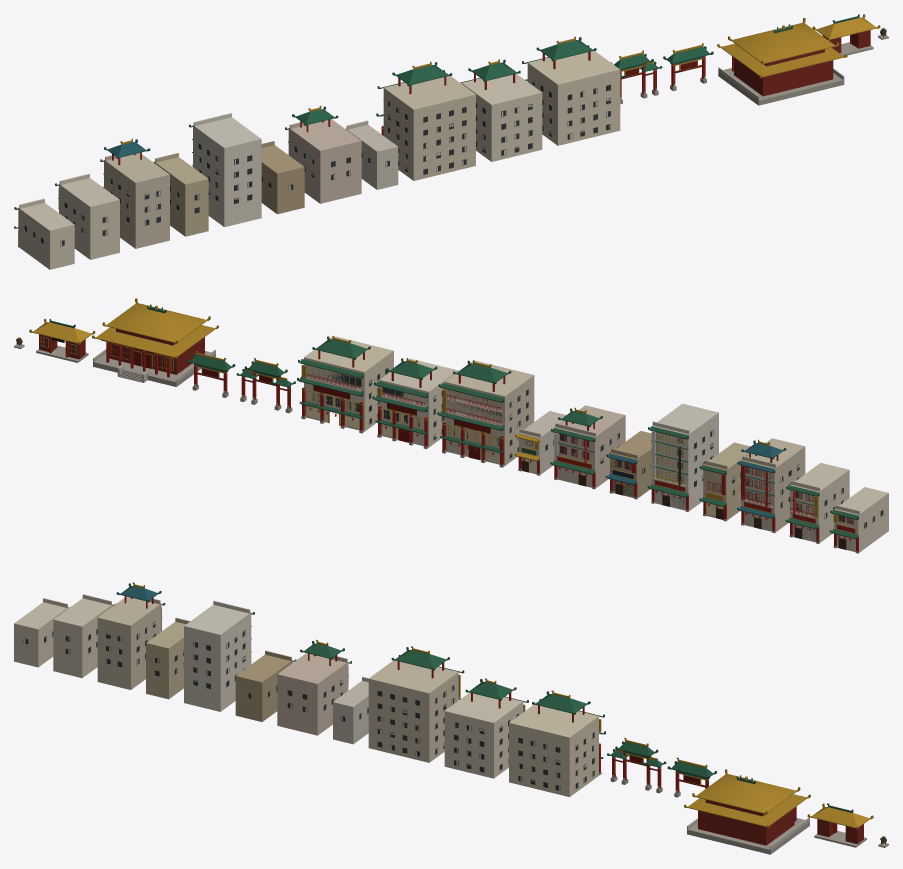
File: tosen.glb
The picture shows the model from 3 angles, top to bottom: view 1: azimuth 30°, elevation 25°; view 2: azimuth 150°, elevation 25°; view 3: azimuth 330°, elevation 25°; orthographic projection. The views are drawn at different scales.
Visible parts, largest first — view 1: tosen_rest_a_body, tosen_hanten_body, tosen_byo_body, tosen_shop_e_body, tosen_rest_b_body, tosen_shop_c_body, tosen_shop_g_body, tosen_shop_b_body, tosen_shop_a_body, tosen_shop_d_body, tosen_shop_f_body, tosen_shop_h_body (+3 smaller); view 2: tosen_rest_a_body, tosen_byo_body, tosen_hanten_body, tosen_shop_e_body, tosen_rest_b_body, tosen_shop_c_body, tosen_shop_g_body, tosen_shop_b_body, tosen_shop_a_body, tosen_shop_d_body, tosen_shop_f_body, tosen_shop_h_body (+3 smaller); view 3: tosen_rest_a_body, tosen_hanten_body, tosen_byo_body, tosen_shop_e_body, tosen_rest_b_body, tosen_shop_c_body, tosen_shop_g_body, tosen_shop_b_body, tosen_shop_f_body, tosen_shop_d_body, tosen_shop_a_body, tosen_shop_h_body (+3 smaller).
Part boxes in pixels (bbox=[...]): tosen_rest_a_body: bbox=[376, 61, 475, 180]; tosen_hanten_body: bbox=[522, 36, 620, 145]; tosen_byo_body: bbox=[717, 18, 847, 105]; tosen_shop_e_body: bbox=[189, 113, 261, 227]; tosen_rest_b_body: bbox=[460, 59, 542, 161]; tosen_shop_c_body: bbox=[100, 138, 169, 248]; tosen_shop_g_body: bbox=[285, 105, 361, 203]; tosen_shop_b_body: bbox=[55, 173, 119, 259]; tosen_shop_a_body: bbox=[14, 198, 74, 269]; tosen_shop_d_body: bbox=[153, 153, 208, 236]; tosen_shop_f_body: bbox=[261, 141, 304, 214]; tosen_shop_h_body: bbox=[346, 120, 398, 189]; tosen_rest_a_body: bbox=[437, 360, 534, 467]; tosen_byo_body: bbox=[92, 298, 218, 386]; tosen_hanten_body: bbox=[297, 336, 393, 433]; tosen_shop_e_body: bbox=[647, 403, 718, 511]; tosen_rest_b_body: bbox=[372, 358, 458, 449]; tosen_shop_c_body: bbox=[737, 438, 805, 533]; tosen_shop_g_body: bbox=[550, 405, 625, 489]; tosen_shop_b_body: bbox=[785, 463, 849, 543]; tosen_shop_a_body: bbox=[829, 487, 888, 553]; tosen_shop_d_body: bbox=[699, 442, 750, 521]; tosen_shop_f_body: bbox=[605, 431, 651, 499]; tosen_shop_h_body: bbox=[514, 411, 566, 475]; tosen_rest_a_body: bbox=[368, 646, 464, 762]; tosen_hanten_body: bbox=[509, 690, 605, 796]; tosen_byo_body: bbox=[684, 769, 810, 854]; tosen_shop_e_body: bbox=[184, 600, 254, 711]; tosen_rest_b_body: bbox=[444, 678, 528, 778]; tosen_shop_c_body: bbox=[97, 582, 165, 689]; tosen_shop_g_body: bbox=[277, 639, 351, 735]; tosen_shop_b_body: bbox=[53, 594, 115, 678]; tosen_shop_f_body: bbox=[235, 650, 296, 721]; tosen_shop_d_body: bbox=[146, 617, 190, 699]; tosen_shop_a_body: bbox=[14, 598, 69, 667]; tosen_shop_h_body: bbox=[333, 677, 368, 744].
Size of the model in its own units: 223 by 22.85 by 20.94.
